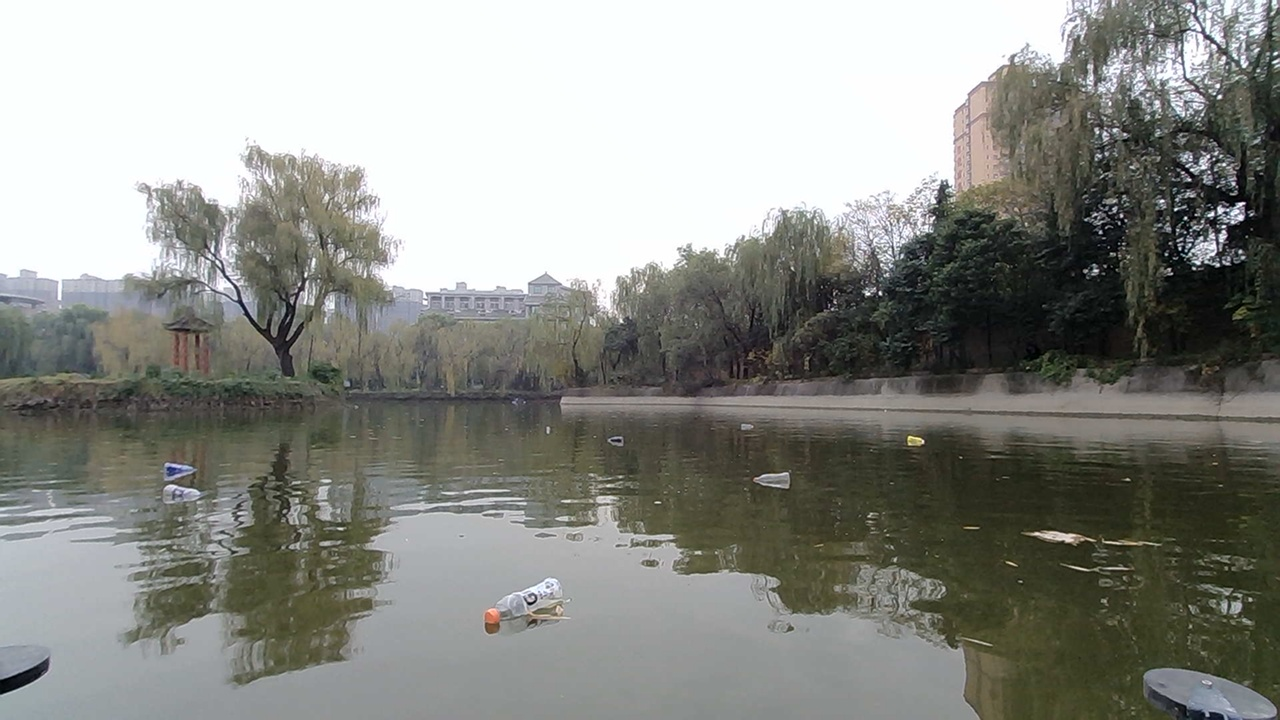bottle: (489, 575, 572, 634), (750, 452, 800, 496), (161, 469, 210, 513), (894, 419, 931, 460), (540, 413, 579, 450), (608, 422, 631, 455), (163, 458, 189, 487), (745, 416, 767, 434)
